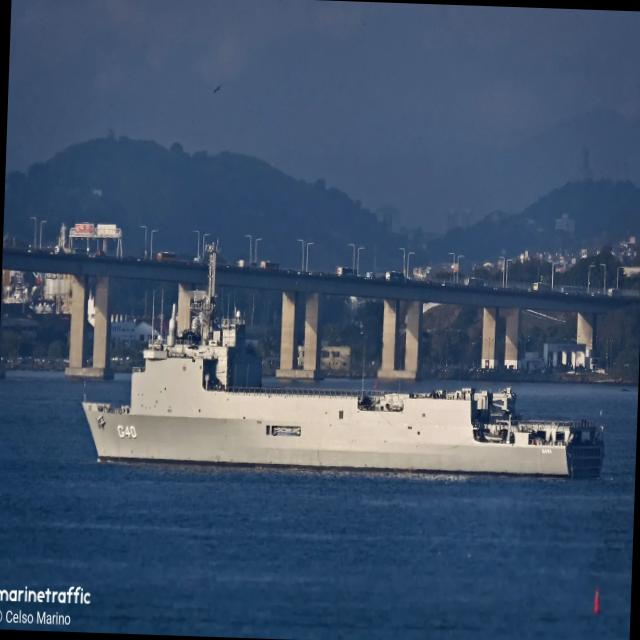Military: (81, 249, 606, 478)
